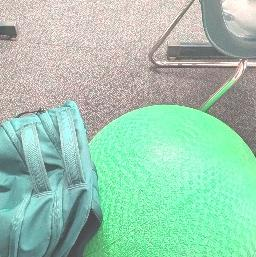algae: (80, 107, 256, 257)
